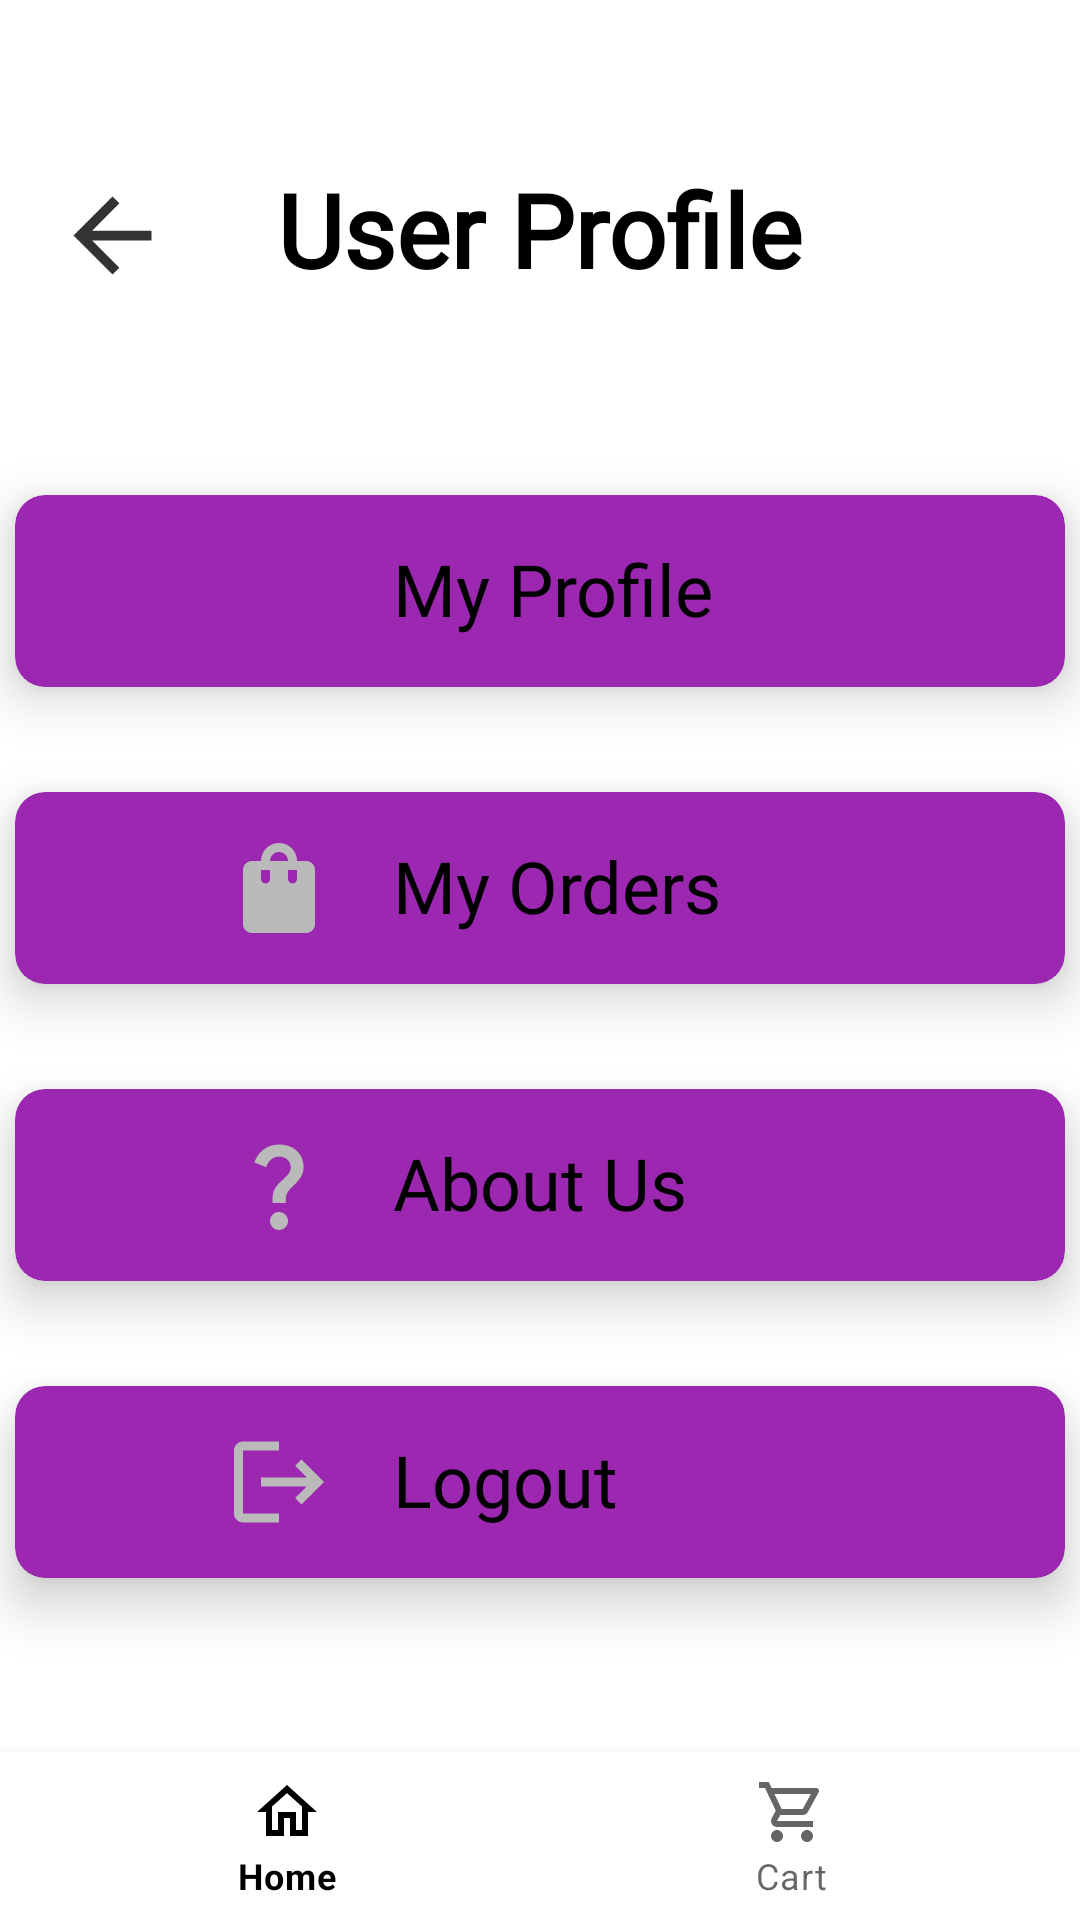

Point at icon controls on the screen. Image size 1080×1920, points as point (x, y).
arrow back: point (112, 235)
question mark: point (279, 1187)
shopping bag: point (279, 888)
